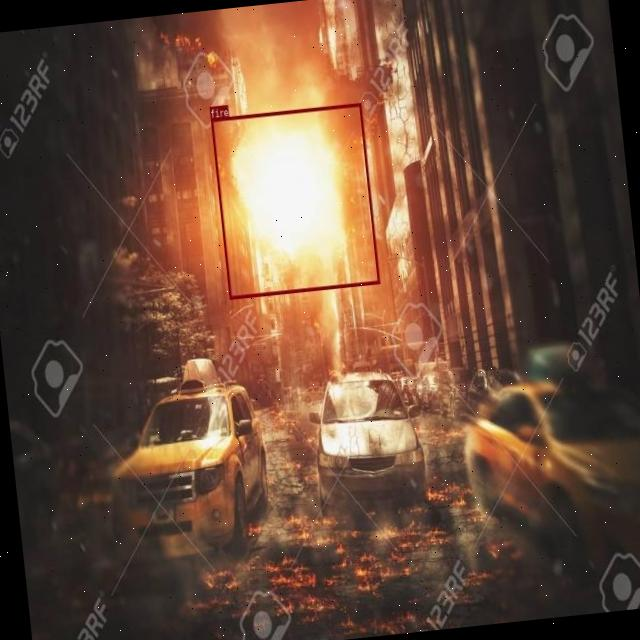fire: (210, 102, 380, 298)
